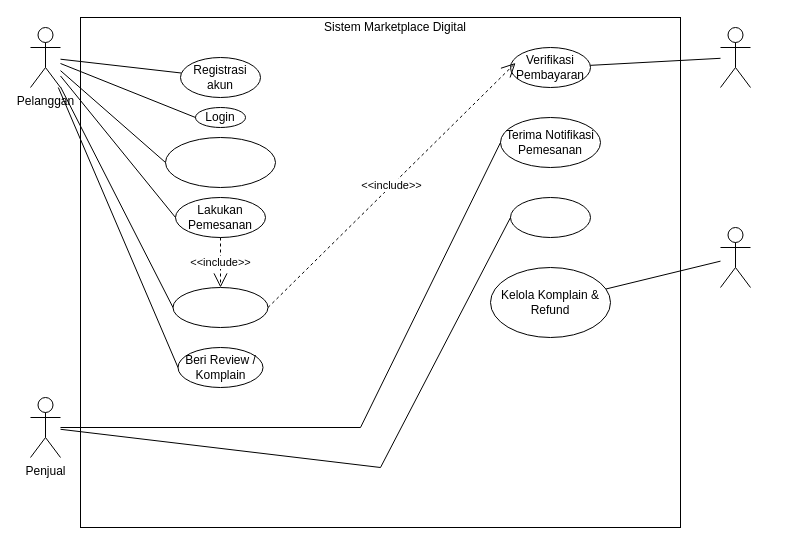
Some shapes in this 802 by 545 pixel diagram are drawn without their labels. The centre of each missing label's shape, as x and y in pixels:
"Admin" goes at (x=735, y=257).
"Lakukan Pembayaran" goes at (x=220, y=307).
"Payment Gateway" goes at (x=735, y=57).
"Pilih & Tambah ke Keranjang" goes at (x=220, y=162).
"Proses Pengiriman" goes at (x=550, y=217).
